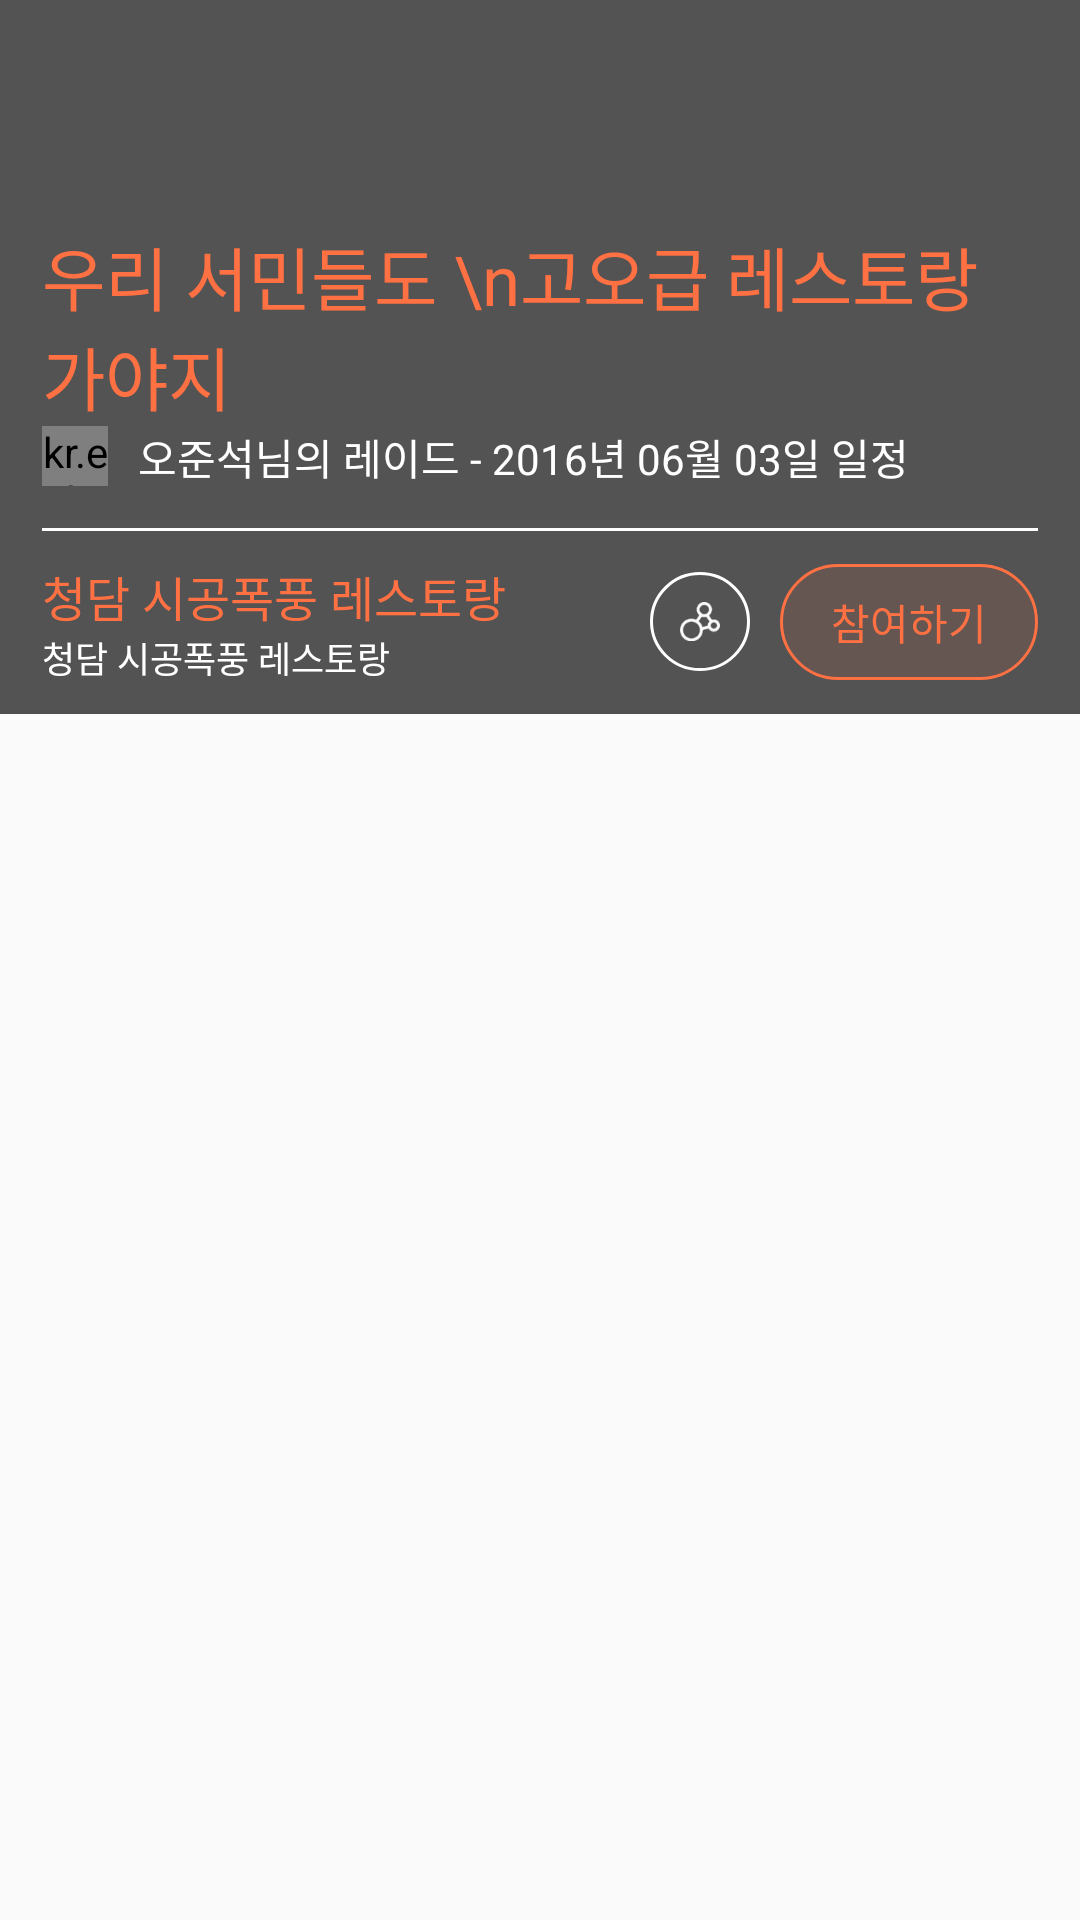

Where icons sit on this 1080 × 1920 app screen, as (x1, y1, x2, y2):
raidlist share: (650, 572, 750, 671)
